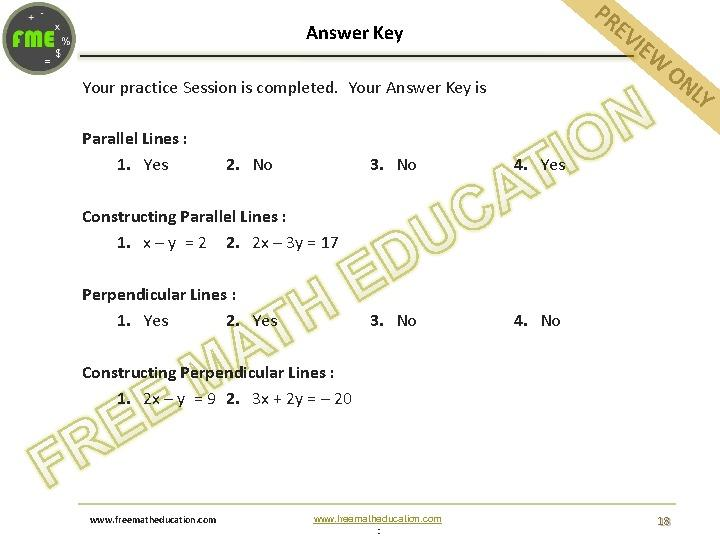paragraph: (68, 71, 628, 437)
title: (300, 17, 435, 52)
